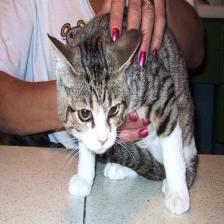cat: (46, 30, 142, 152)
